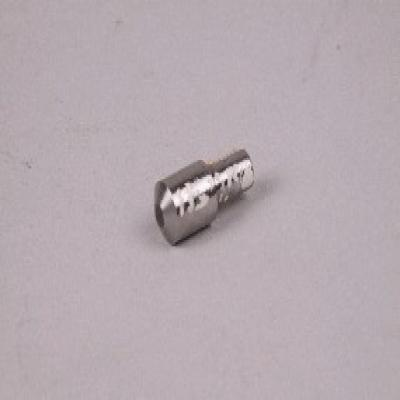technique: (156, 149, 255, 246)
